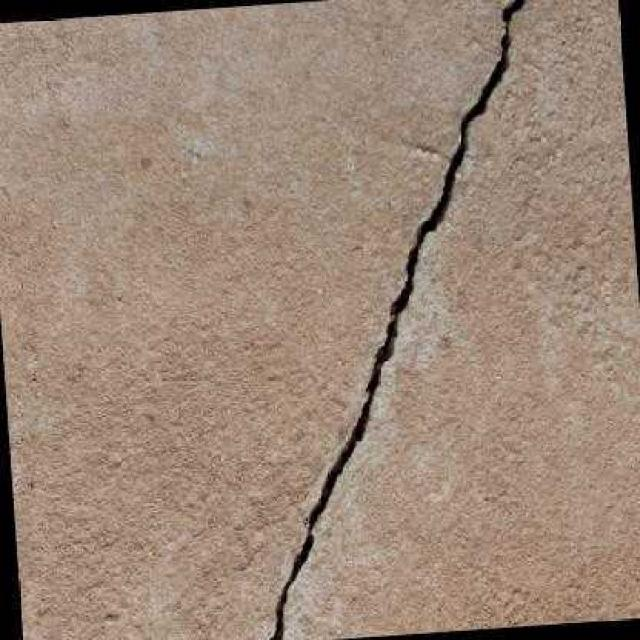D00: (264, 0, 524, 640)
